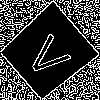V: (23, 27, 80, 82)
